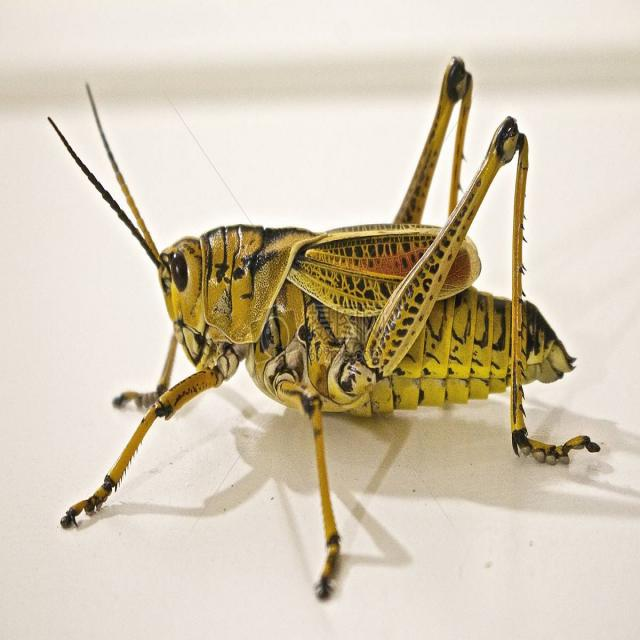ZhaMeng: (99, 88, 574, 538)
